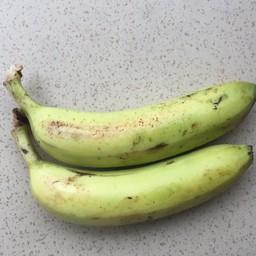Good_banana: (2, 62, 253, 167), (14, 150, 256, 219)
